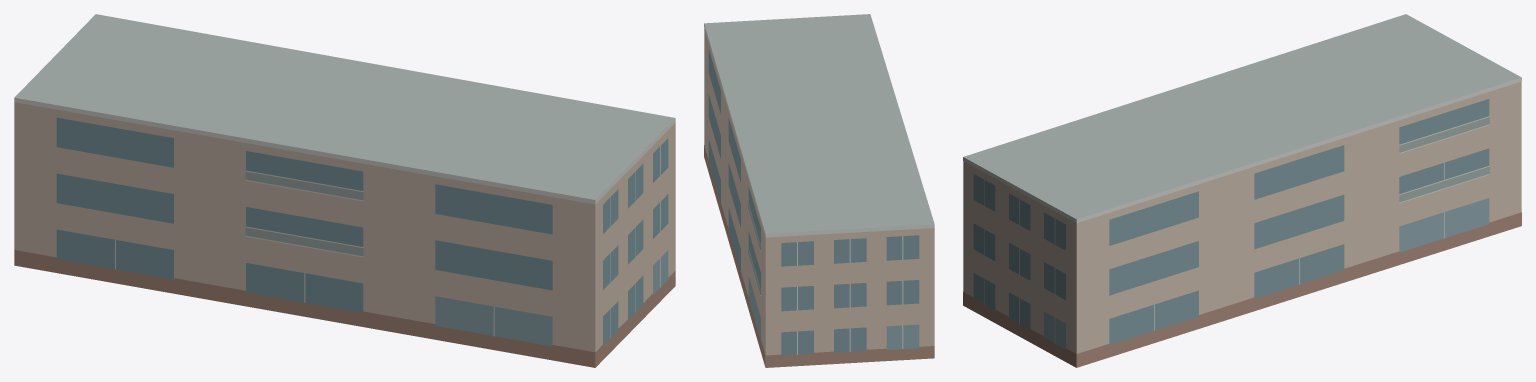
The model's file is survey-upis-32585401.glb.
The picture shows the model from 3 angles, left to right: view 1: azimuth 30°, elevation 25°; view 2: azimuth 150°, elevation 25°; view 3: azimuth 270°, elevation 25°; orthographic projection. The views are drawn at different scales.
Visible parts, largest first — view 1: survey-upis-32585401.tmp; view 2: survey-upis-32585401.tmp; view 3: survey-upis-32585401.tmp.
Boxes of the visible parts, box(x1,y1,x2,y2) form: survey-upis-32585401.tmp: box(14, 14, 675, 367); survey-upis-32585401.tmp: box(704, 14, 934, 367); survey-upis-32585401.tmp: box(963, 14, 1521, 367).
Size of the model in its own units: 27.12 by 9.15 by 31.18.
